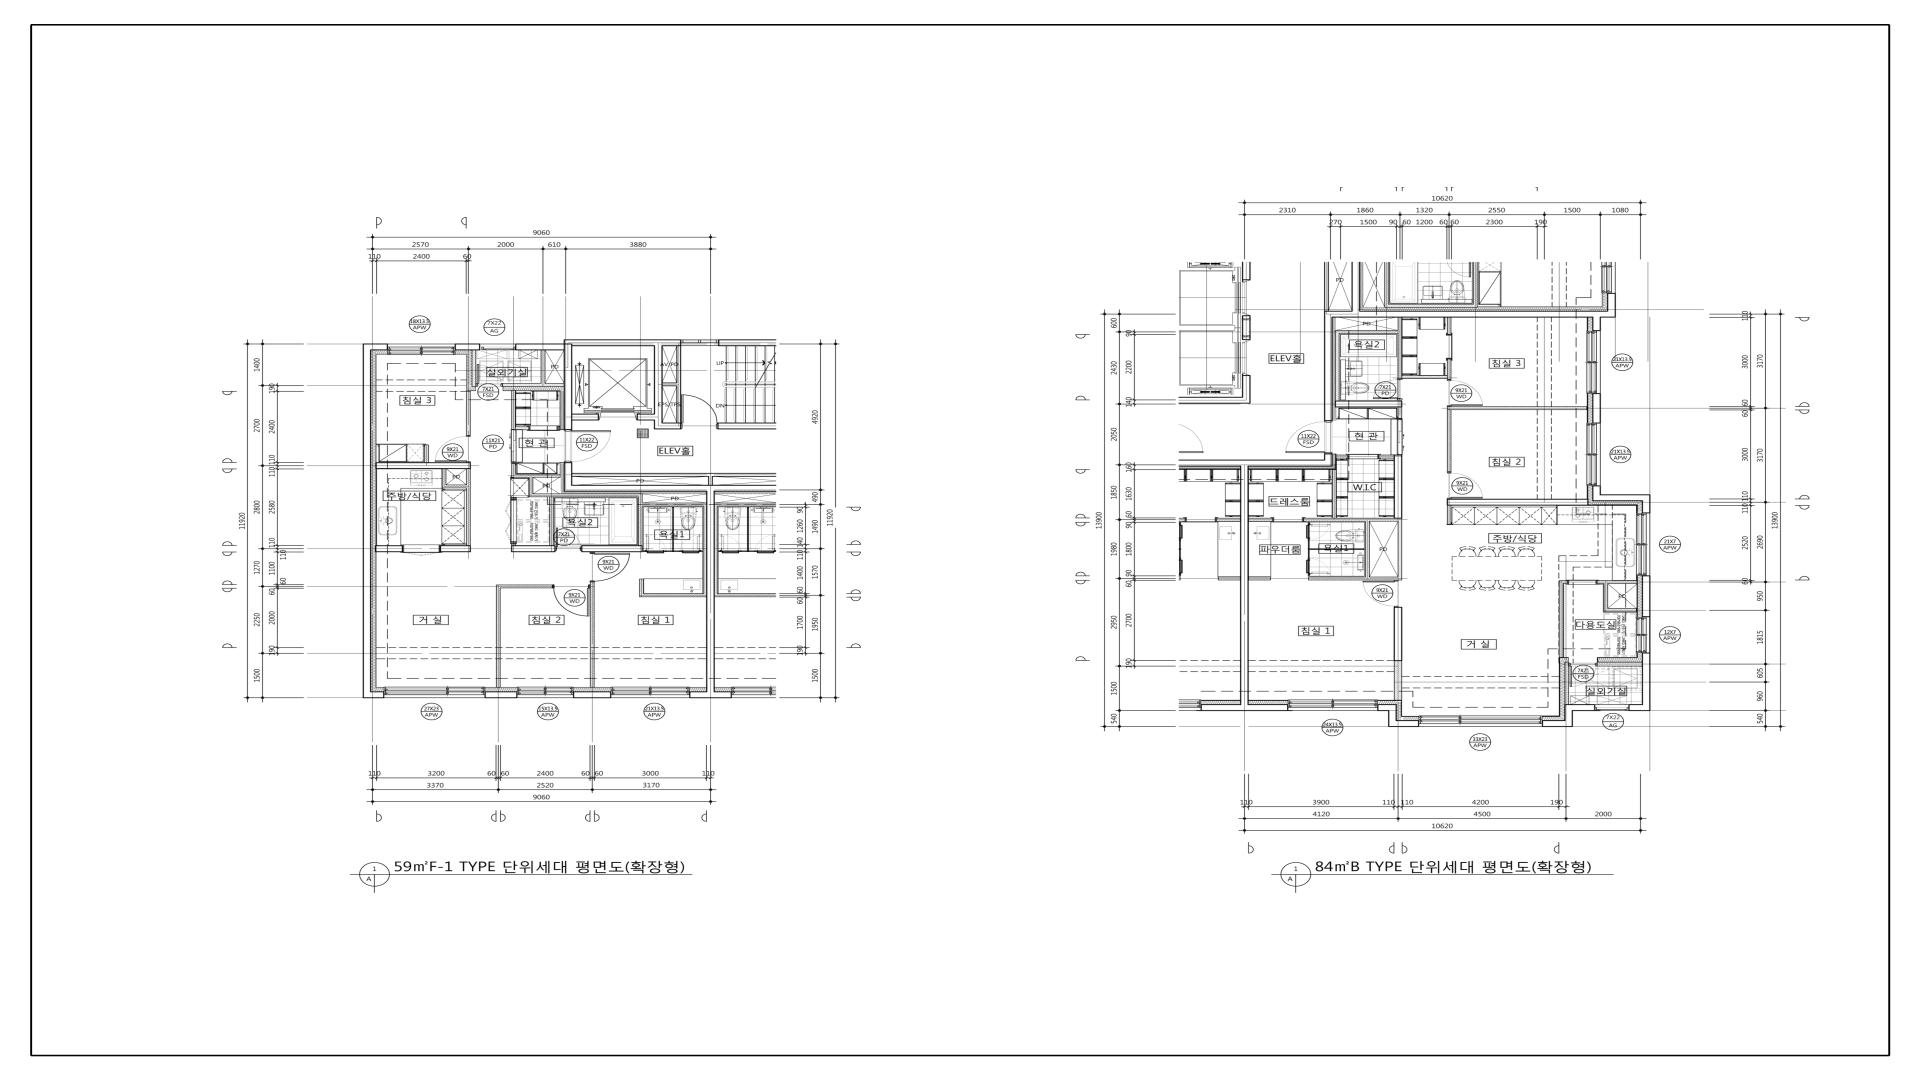door: (564, 430, 612, 463), (1286, 421, 1332, 454), (682, 394, 719, 429), (553, 584, 591, 617), (589, 553, 632, 582), (1362, 580, 1399, 607), (1447, 472, 1484, 498), (435, 436, 471, 463), (1447, 380, 1482, 406), (1569, 663, 1597, 687), (1373, 378, 1402, 401), (555, 527, 582, 551), (476, 364, 502, 386), (1305, 558, 1331, 576), (1307, 522, 1331, 541), (402, 545, 440, 555), (510, 430, 517, 463), (1398, 418, 1403, 455), (1273, 517, 1304, 522), (1348, 454, 1379, 459), (529, 426, 558, 431), (1447, 332, 1452, 360), (1568, 580, 1597, 584)
wall: (363, 351, 372, 692), (1240, 467, 1249, 704), (1324, 311, 1615, 318), (705, 492, 715, 691), (572, 485, 775, 492), (1447, 498, 1589, 506), (1179, 460, 1332, 467), (1324, 318, 1333, 421), (1394, 607, 1403, 700), (572, 473, 777, 477), (563, 344, 572, 430), (564, 339, 682, 345), (376, 463, 471, 469), (1201, 704, 1288, 711), (1447, 406, 1588, 410), (589, 582, 595, 687), (654, 345, 662, 414), (496, 584, 501, 687), (1394, 455, 1402, 518), (1642, 653, 1651, 704), (1179, 397, 1250, 404), (719, 339, 777, 347), (1335, 401, 1403, 407), (529, 493, 638, 497), (582, 546, 642, 553), (717, 423, 777, 430), (1352, 262, 1360, 311), (1642, 576, 1651, 617), (516, 343, 563, 351), (1308, 576, 1398, 580), (1447, 410, 1452, 472), (1593, 495, 1642, 501), (1398, 318, 1403, 378), (676, 345, 680, 423), (467, 469, 471, 546), (1365, 521, 1370, 576), (574, 691, 611, 699), (512, 546, 555, 553), (1559, 584, 1563, 657), (1336, 334, 1340, 401), (1332, 469, 1337, 518), (1324, 262, 1329, 311), (1304, 518, 1402, 521), (644, 593, 707, 597), (1336, 330, 1398, 334), (642, 502, 704, 506), (654, 421, 680, 430), (465, 390, 471, 436), (1593, 393, 1601, 423), (704, 504, 707, 593), (1398, 521, 1402, 580), (564, 463, 572, 492), (1564, 662, 1569, 704), (485, 691, 517, 698), (638, 495, 642, 546), (1543, 720, 1573, 727), (440, 546, 471, 553), (363, 343, 388, 351), (690, 691, 715, 699), (455, 343, 480, 351), (1242, 315, 1250, 340), (512, 473, 560, 477), (550, 497, 554, 545), (375, 546, 402, 553), (1597, 662, 1642, 666), (1402, 375, 1447, 378), (572, 414, 599, 421), (541, 351, 546, 384), (1642, 495, 1651, 513), (1242, 376, 1250, 397), (637, 414, 662, 421), (502, 384, 564, 386), (1597, 580, 1638, 584), (512, 390, 516, 430), (1629, 704, 1651, 711), (1396, 720, 1419, 727), (1564, 704, 1573, 720), (472, 351, 476, 386), (1573, 704, 1594, 711), (500, 585, 553, 588), (363, 691, 384, 698), (1242, 262, 1250, 280), (1389, 711, 1396, 727), (1378, 704, 1396, 711), (1607, 608, 1638, 612), (1604, 584, 1607, 612), (1447, 505, 1452, 525), (1447, 360, 1452, 380), (1593, 318, 1601, 331), (1249, 518, 1273, 522), (1249, 576, 1271, 580), (1447, 318, 1452, 332), (1593, 485, 1601, 495), (1309, 549, 1365, 550), (640, 579, 644, 597), (442, 469, 446, 488), (425, 444, 429, 463), (529, 477, 533, 495), (1379, 455, 1394, 459), (662, 382, 676, 386), (446, 485, 467, 488), (1324, 454, 1332, 460), (1336, 455, 1348, 459), (1398, 407, 1402, 418), (512, 464, 516, 473), (1559, 580, 1568, 584), (516, 427, 529, 430), (708, 477, 712, 485), (1308, 541, 1309, 558), (558, 426, 560, 430), (512, 545, 516, 546)
window: (1419, 716, 1542, 727), (384, 687, 485, 698), (1288, 700, 1378, 711), (1636, 513, 1651, 576), (1586, 331, 1601, 393), (1586, 423, 1601, 485), (611, 687, 690, 698), (388, 344, 455, 355), (517, 687, 574, 698), (1636, 617, 1651, 653), (1596, 704, 1629, 711), (480, 344, 516, 349)
